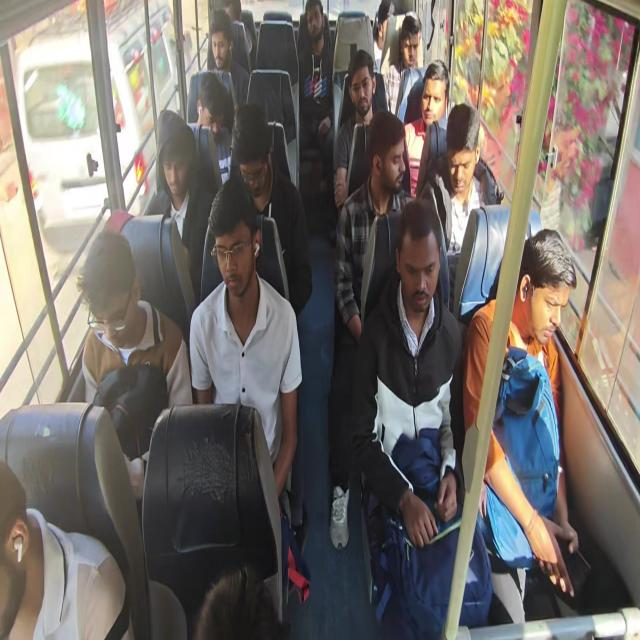person: (508, 223, 578, 349), (80, 235, 138, 352), (210, 185, 260, 305), (391, 205, 443, 320), (0, 472, 36, 633), (152, 100, 194, 208), (366, 115, 409, 198), (232, 113, 272, 194), (445, 108, 478, 200), (416, 61, 448, 130), (343, 54, 375, 120), (396, 14, 427, 75), (196, 73, 224, 137), (207, 17, 236, 77), (298, 0, 330, 47), (372, 0, 399, 50), (221, 0, 242, 20)
